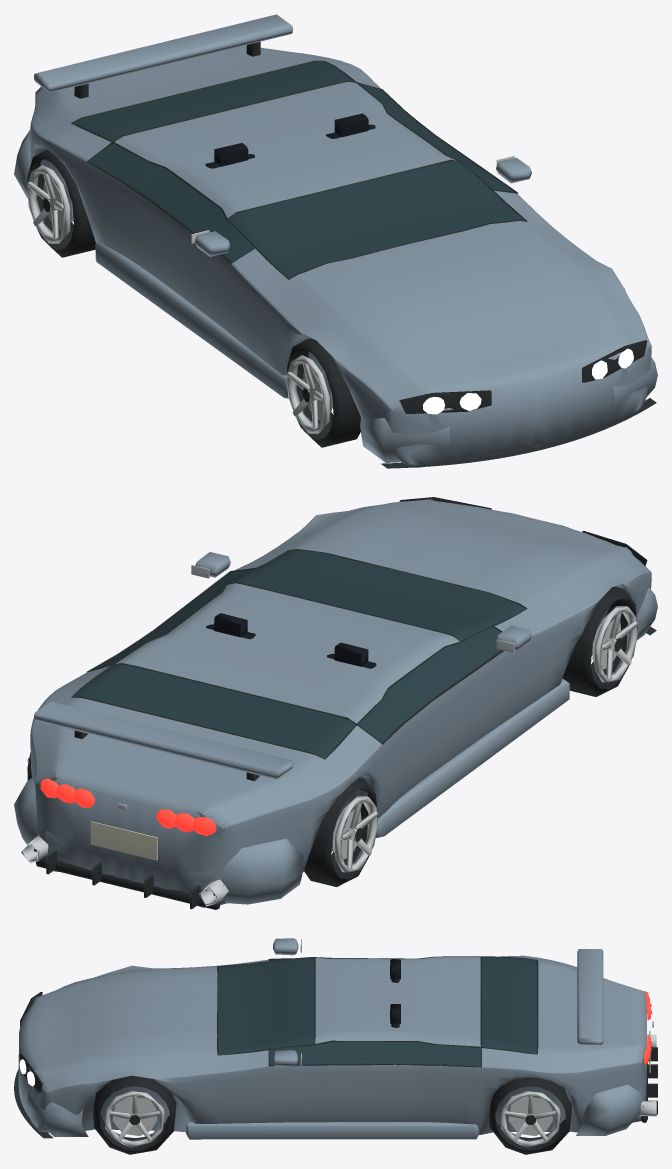
File: tyvoro-nervae.glb
3 views of the same model, one above another, from view 1: azimuth 30°, elevation 25°; view 2: azimuth 150°, elevation 25°; view 3: azimuth 270°, elevation 25° (orthographic). The views are drawn at different scales.
Visible parts, largest first — view 1: scocca, cofano, tetto, cristallo_ant, porta_sx, portellone, cristallo_post, spoiler, cristallo_sx, minigonna_sx, ruota_ant_sx_gomma, paraurti_ant (+15 smaller); view 2: scocca, tetto, cofano, portellone, cristallo_ant, cristallo_post, porta_sx, spoiler, paraurti_post, cristallo_sx, minigonna_sx, ruota_ant_sx_gomma (+14 smaller); view 3: scocca, cofano, tetto, porta_dx, cristallo_ant, portellone, minigonna_dx, cristallo_post, cristallo_dx, spoiler, paraurti_post, ruota_ant_dx_gomma (+14 smaller).
Boxes of the visible parts, x1,y1,x2,y2 form: scocca: [30, 51, 651, 467]; cofano: [289, 221, 626, 385]; tetto: [114, 82, 456, 218]; cristallo_ant: [228, 161, 525, 278]; porta_sx: [87, 162, 246, 346]; portellone: [53, 45, 322, 122]; cristallo_post: [72, 61, 354, 141]; spoiler: [34, 14, 293, 92]; cristallo_sx: [89, 143, 254, 262]; minigonna_sx: [95, 241, 288, 398]; ruota_ant_sx_gomma: [287, 338, 360, 447]; paraurti_ant: [360, 357, 657, 462]; scocca: [30, 499, 651, 907]; tetto: [116, 583, 459, 723]; cofano: [291, 500, 626, 608]; portellone: [50, 697, 324, 816]; cristallo_ant: [230, 550, 526, 641]; cristallo_post: [73, 664, 355, 758]; porta_sx: [377, 643, 528, 818]; spoiler: [34, 701, 293, 779]; paraurti_post: [14, 777, 303, 904]; cristallo_sx: [358, 627, 501, 742]; minigonna_sx: [375, 678, 569, 837]; ruota_ant_sx_gomma: [562, 586, 637, 696]; scocca: [18, 955, 646, 1134]; cofano: [42, 966, 217, 1073]; tetto: [315, 957, 480, 1046]; porta_dx: [253, 1064, 481, 1134]; cristallo_ant: [217, 957, 314, 1054]; portellone: [537, 960, 646, 1056]; minigonna_dx: [186, 1121, 479, 1139]; cristallo_post: [481, 957, 536, 1053]; cristallo_dx: [269, 1041, 480, 1066]; spoiler: [577, 949, 603, 1045]; paraurti_post: [576, 1085, 645, 1135]; ruota_ant_dx_gomma: [93, 1075, 176, 1154].
Size of the model in its own units: 2.31 by 1.01 by 5.22.
